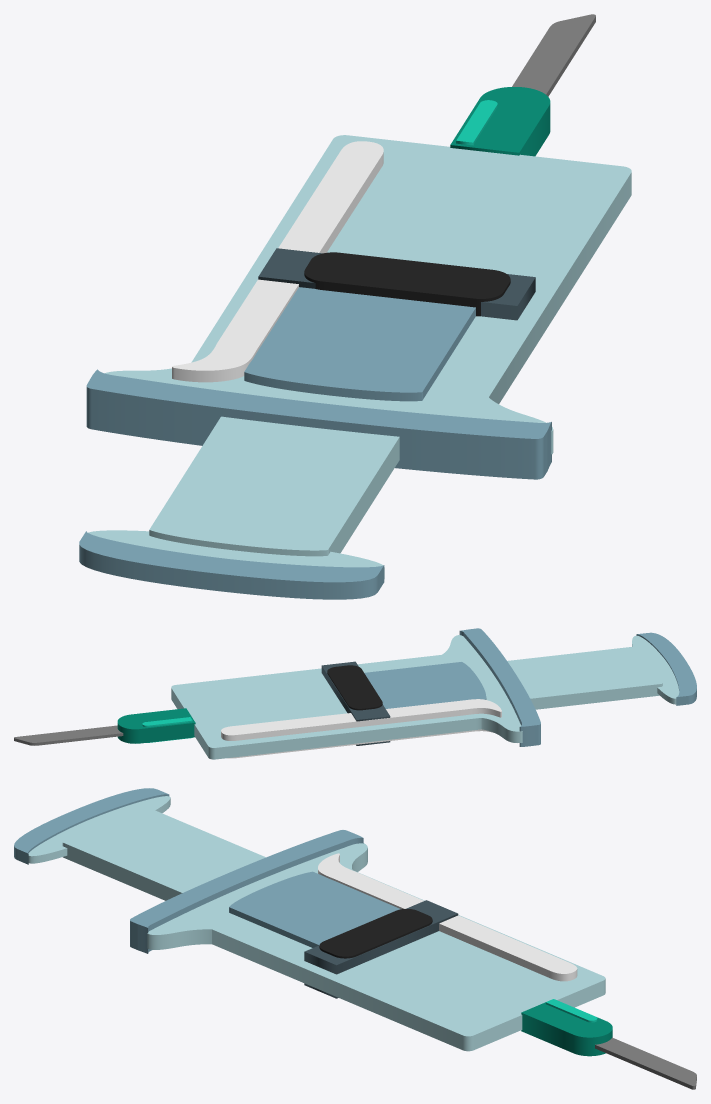
Rendered from emoji_u1f489.glb.
The picture shows the model from 3 angles, top to bottom: view 1: azimuth 30°, elevation 25°; view 2: azimuth 150°, elevation 25°; view 3: azimuth 270°, elevation 25°; orthographic projection. The views are drawn at different scales.
Parts seen in each view (by area): view 1: emoji_u1f489; view 2: emoji_u1f489; view 3: emoji_u1f489.
Boxes of the visible parts, box(x1,y1,x2,y2) form: emoji_u1f489: box(79, 14, 631, 599); emoji_u1f489: box(14, 628, 696, 759); emoji_u1f489: box(14, 788, 696, 1089).
Size of the model in its own units: 0.0339 by 0.002 by 0.0332.
